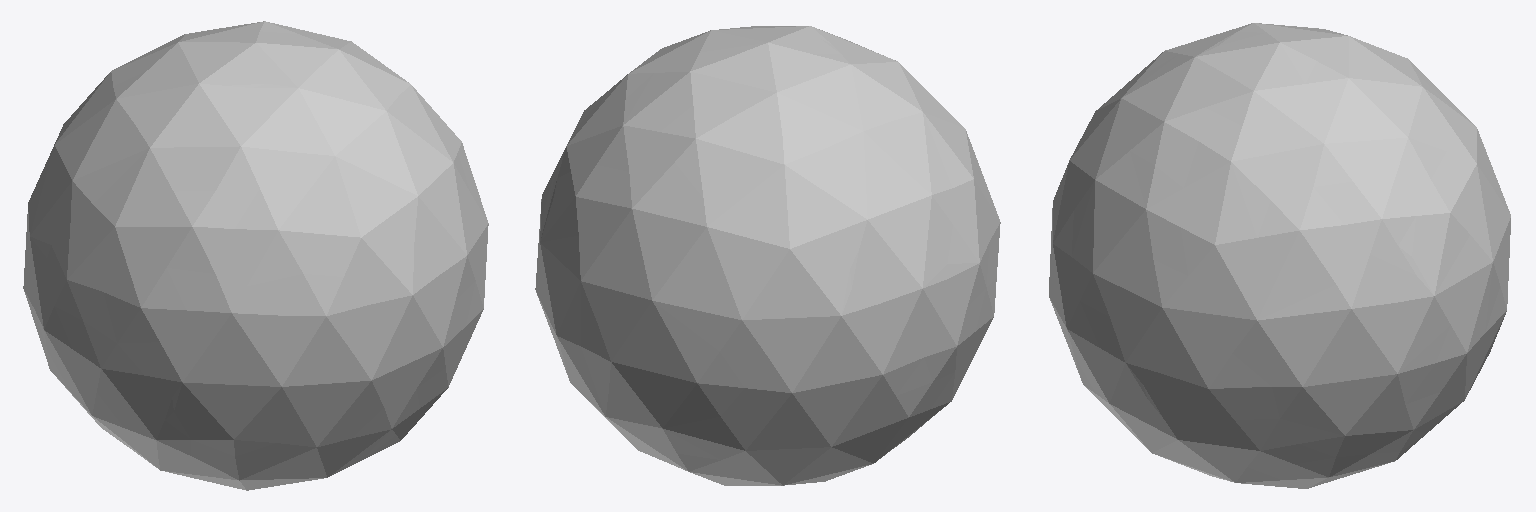
File: ball.obj
3 renders of one model, left to right at view 1: azimuth 30°, elevation 25°; view 2: azimuth 150°, elevation 25°; view 3: azimuth 270°, elevation 25°, orthographic.
Visible parts, largest first — view 1: ball; view 2: ball; view 3: ball.
Part boxes in pixels (x1,y1,x2,y2): ball: (23,21,488,490); ball: (535,26,1000,485); ball: (1049,23,1510,488).
Bounding box in the file's own units: 1.97 × 2 × 1.96.